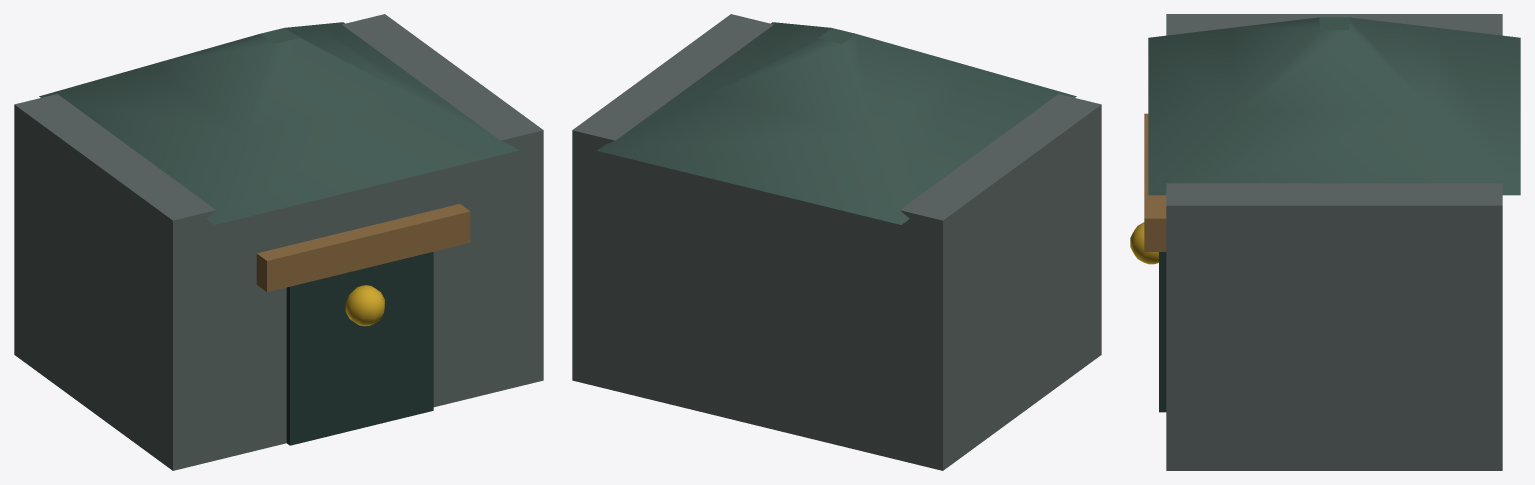
File: imp_dong_fu.glb
The picture shows the model from 3 angles, left to right: view 1: azimuth 30°, elevation 25°; view 2: azimuth 150°, elevation 25°; view 3: azimuth 270°, elevation 25°; orthographic projection. The views are drawn at different scales.
Visible parts, largest first — view 1: _MeshInstance3D_250, _MeshInstance3D_253, _MeshInstance3D_251, _MeshInstance3D_252, _MeshInstance3D_254; view 2: _MeshInstance3D_250, _MeshInstance3D_253; view 3: _MeshInstance3D_250, _MeshInstance3D_253, _MeshInstance3D_252, _MeshInstance3D_251, _MeshInstance3D_254.
Part boxes in pixels (box(x1,y1,x2,y2)): _MeshInstance3D_250: box(14, 14, 543, 470); _MeshInstance3D_253: box(39, 22, 518, 224); _MeshInstance3D_251: box(286, 251, 433, 445); _MeshInstance3D_252: box(256, 204, 470, 292); _MeshInstance3D_254: box(345, 285, 384, 326); _MeshInstance3D_250: box(572, 14, 1101, 470); _MeshInstance3D_253: box(597, 22, 1076, 224); _MeshInstance3D_250: box(1166, 14, 1502, 470); _MeshInstance3D_253: box(1148, 17, 1520, 195); _MeshInstance3D_252: box(1144, 113, 1166, 251); _MeshInstance3D_251: box(1159, 252, 1166, 412); _MeshInstance3D_254: box(1130, 222, 1158, 264).
Size of the model in its own units: 0.62 by 0.53 by 0.5338.
